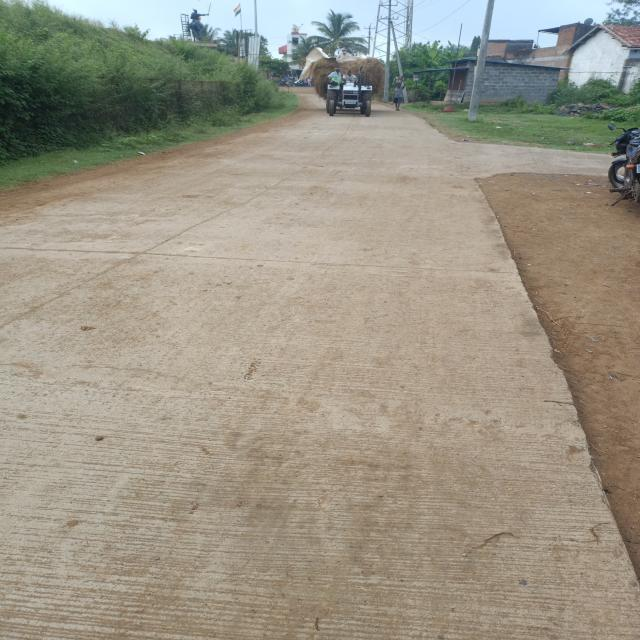tractor_front: (303, 51, 388, 120)
